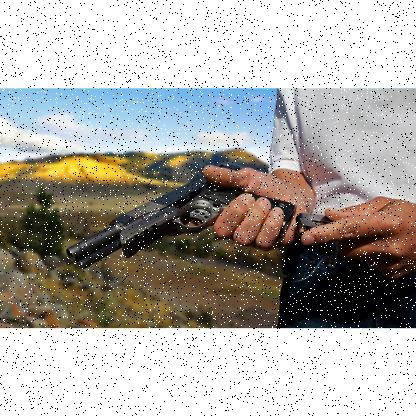gun: (59, 158, 297, 272)
